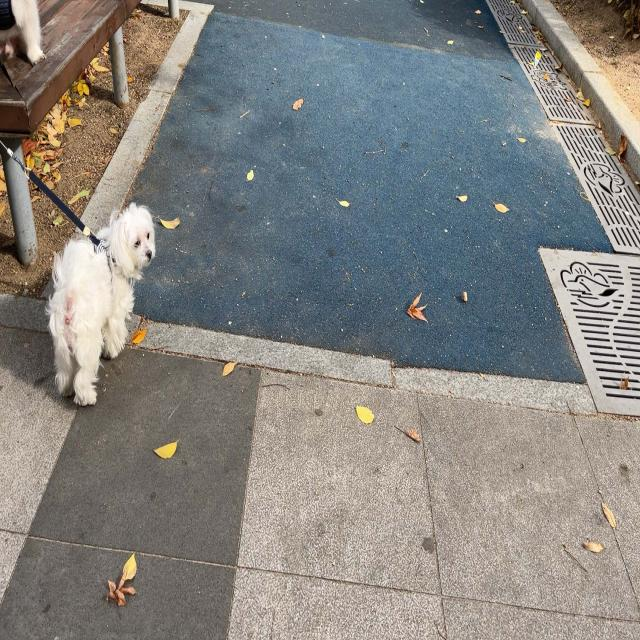Dog: (47, 203, 156, 404)
